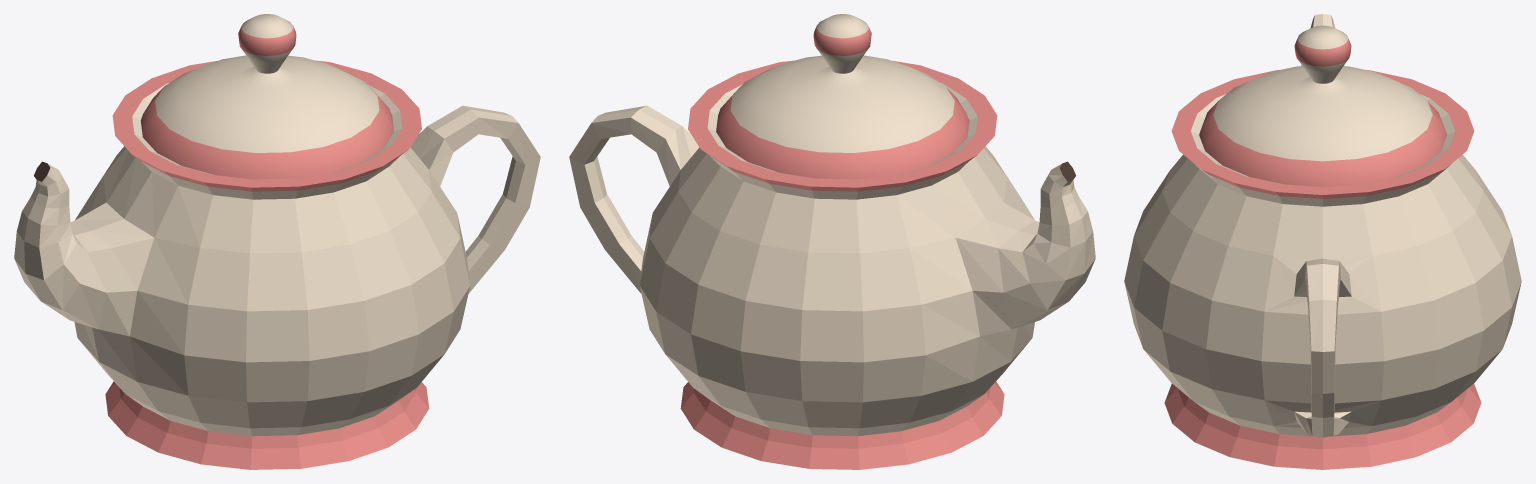
File: teacup pot.fbx
3 views of the same model, side by side, from view 1: azimuth 30°, elevation 25°; view 2: azimuth 150°, elevation 25°; view 3: azimuth 270°, elevation 25° (orthographic). The views are drawn at different scales.
Visible parts, largest first — view 1: pot, lid; view 2: pot, lid; view 3: pot, lid.
Part boxes in pixels (x1=…): pot: x1=14, y1=60, x2=540, y2=469; lid: x1=140, y1=14, x2=393, y2=179; pot: x1=569, y1=60, x2=1095, y2=469; lid: x1=716, y1=14, x2=969, y2=179; pot: x1=1124, y1=14, x2=1521, y2=469; lid: x1=1199, y1=25, x2=1446, y2=186.
Bounding box in the file's own units: 7.01 × 4.99 × 4.84.
